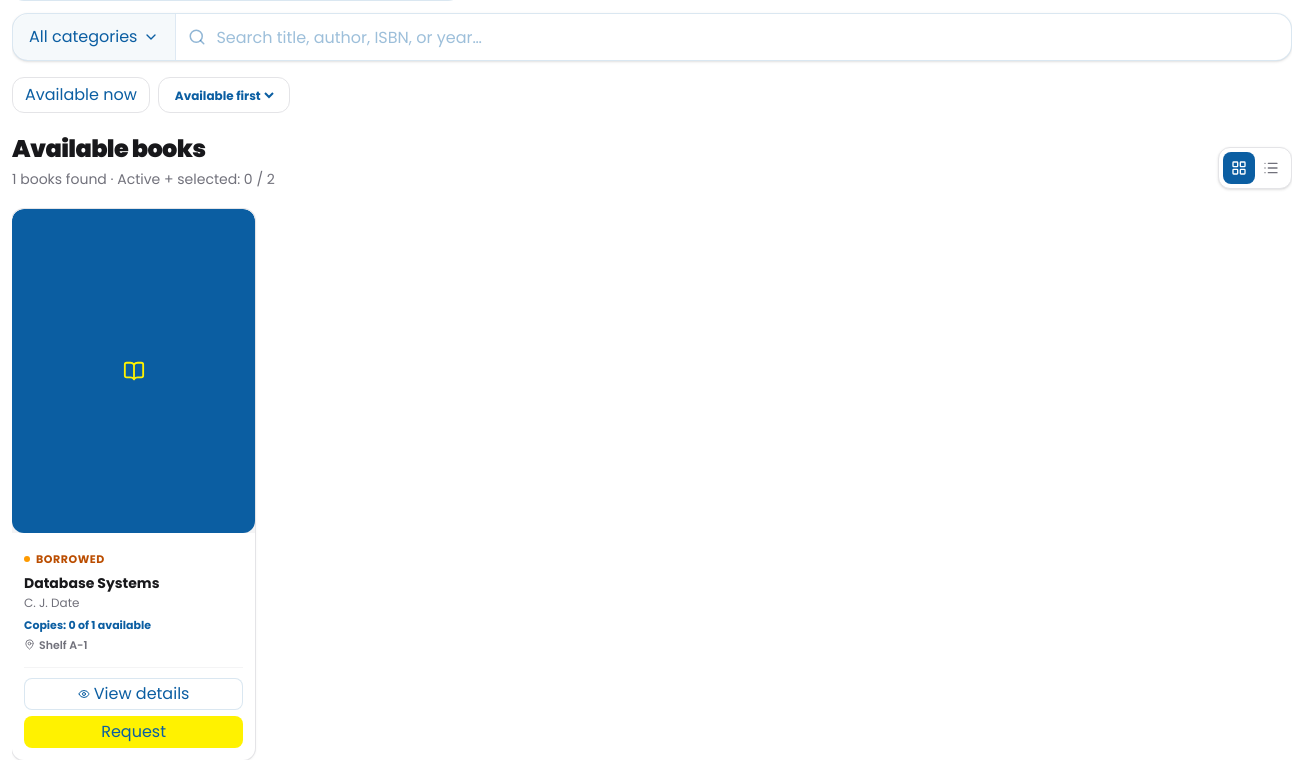
it: BookCatalog availability refresh › shows the backend warning when the student already borrowed the selected title
The width and height of the screenshot is (1304, 760).
(page scrolled)
Click the button "Request" at {"x": 134, "y": 732}, box [24,716,243,748]
(page scrolled)
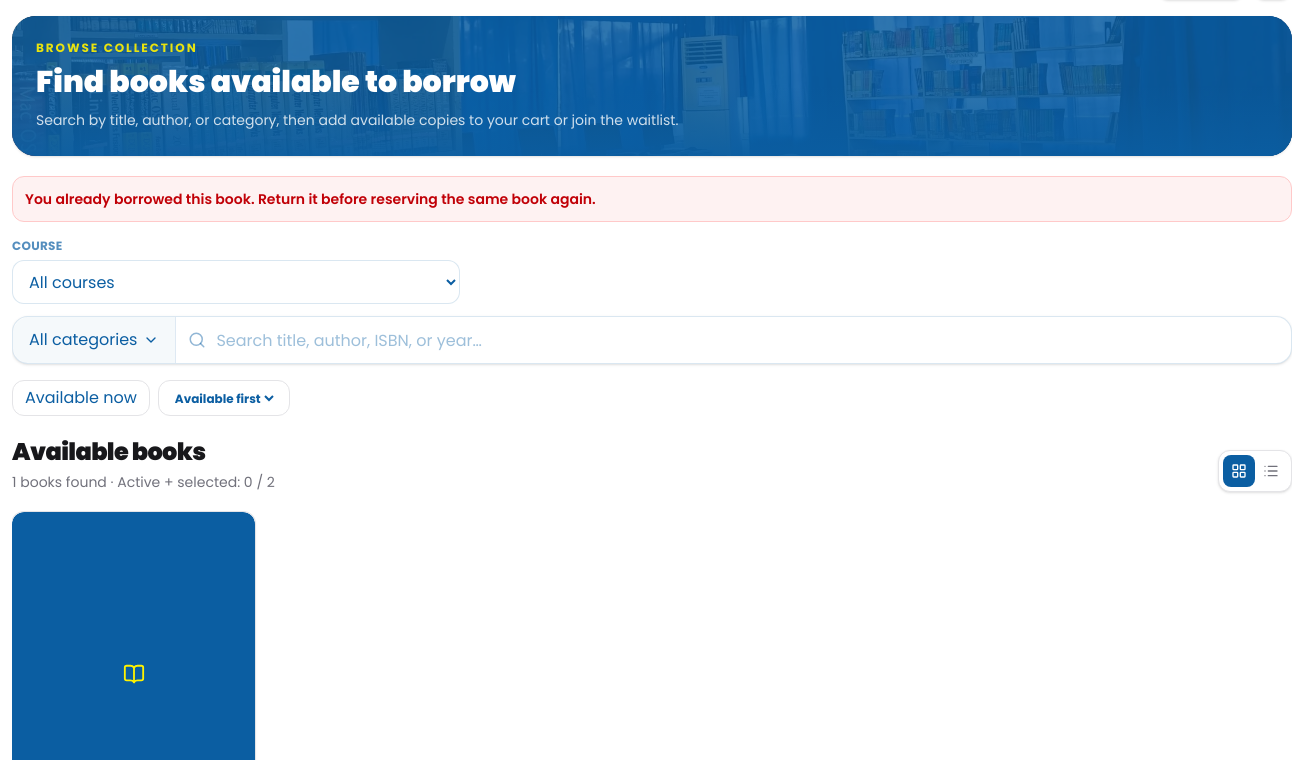
Now the message shows "You already borrowed this book", box [25,189,596,209]
